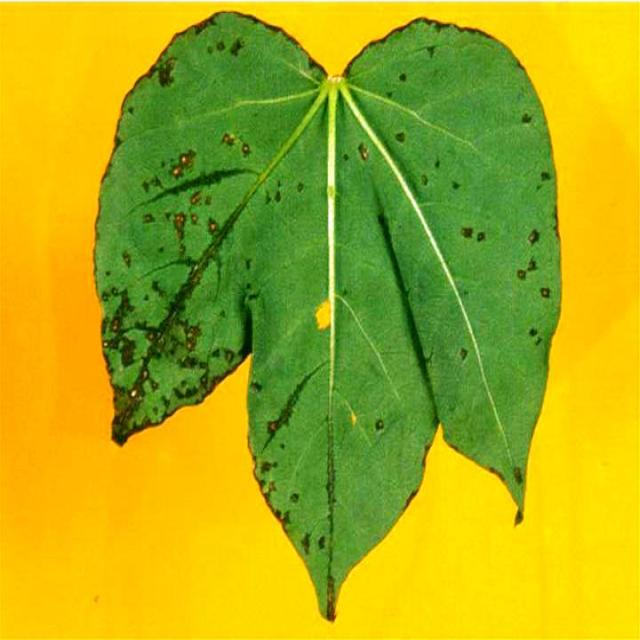Bacterial Blight: (107, 173, 227, 410)
